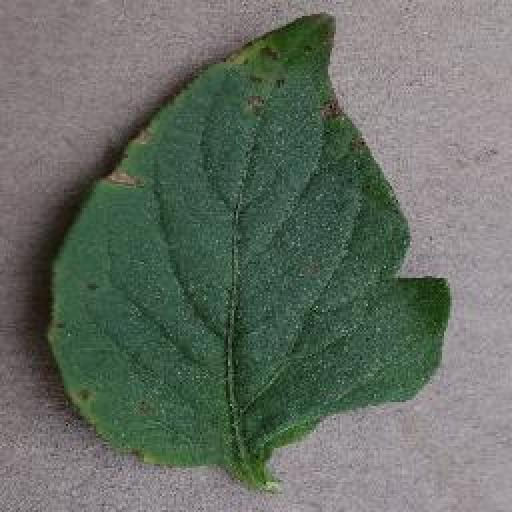Bacterial Spot: (44, 10, 455, 474)
